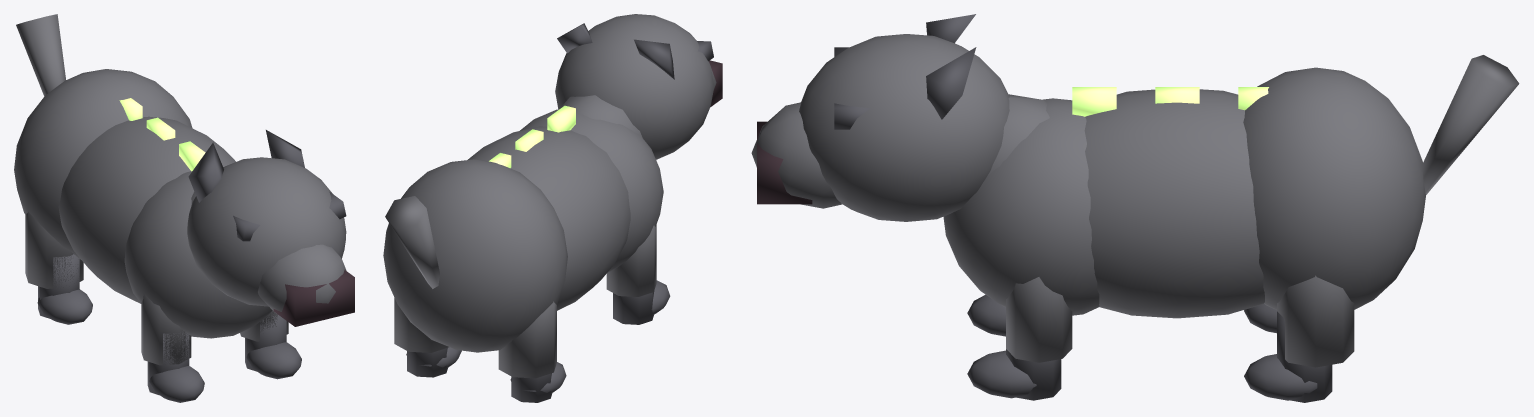
File: cinder_hound_bitgem.glb
3 renders of one model, left to right at view 1: azimuth 30°, elevation 25°; view 2: azimuth 150°, elevation 25°; view 3: azimuth 270°, elevation 25°, orthographic. The views are drawn at different scales.
Parts seen in each view (by area): view 1: hound; view 2: hound; view 3: hound.
Part boxes in pixels (box(x1,y1,x2,y2)): hound: box(14, 14, 354, 402); hound: box(383, 14, 722, 402); hound: box(751, 14, 1519, 402).
Bounding box in the file's own units: 0.88 × 1.33 × 2.78.
